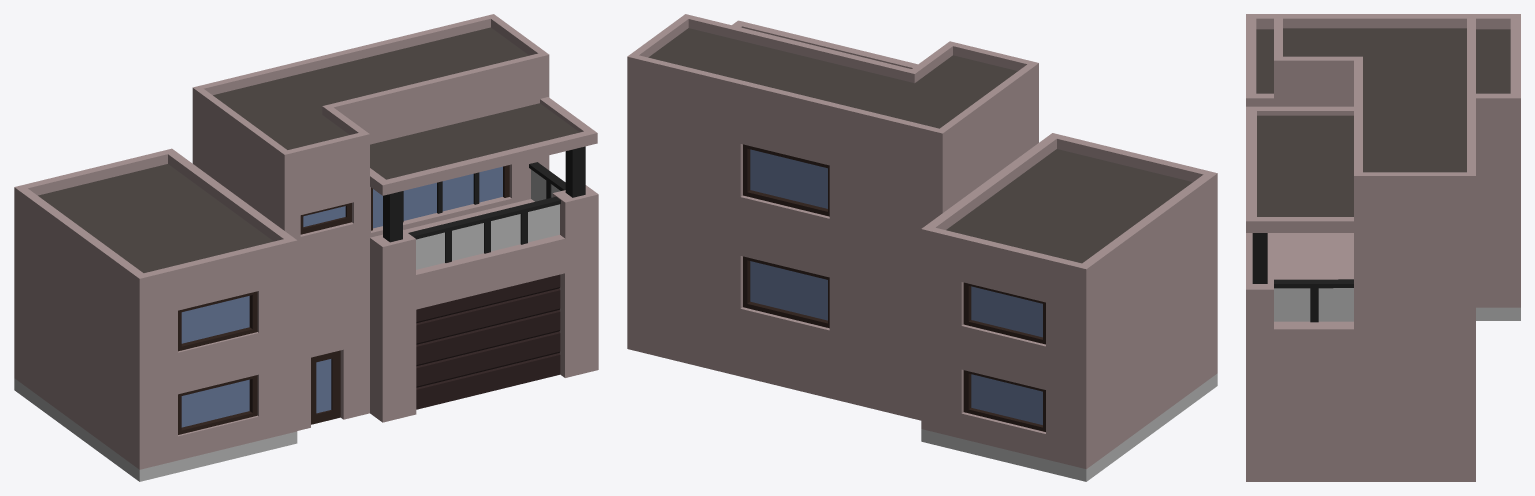
File: ModernHouse_01.fbx
The picture shows the model from 3 angles, left to right: view 1: azimuth 30°, elevation 25°; view 2: azimuth 150°, elevation 25°; view 3: azimuth 270°, elevation 25°; orthographic projection. The views are drawn at different scales.
Visible parts, largest first — view 1: ModernHouse_01; view 2: ModernHouse_01; view 3: ModernHouse_01.
Part boxes in pixels (<box>): ModernHouse_01: <box>14,14,598,481</box>; ModernHouse_01: <box>627,14,1217,481</box>; ModernHouse_01: <box>1246,14,1520,481</box>.
Bounding box in the file's own units: 12 × 6.98 × 5.68.
